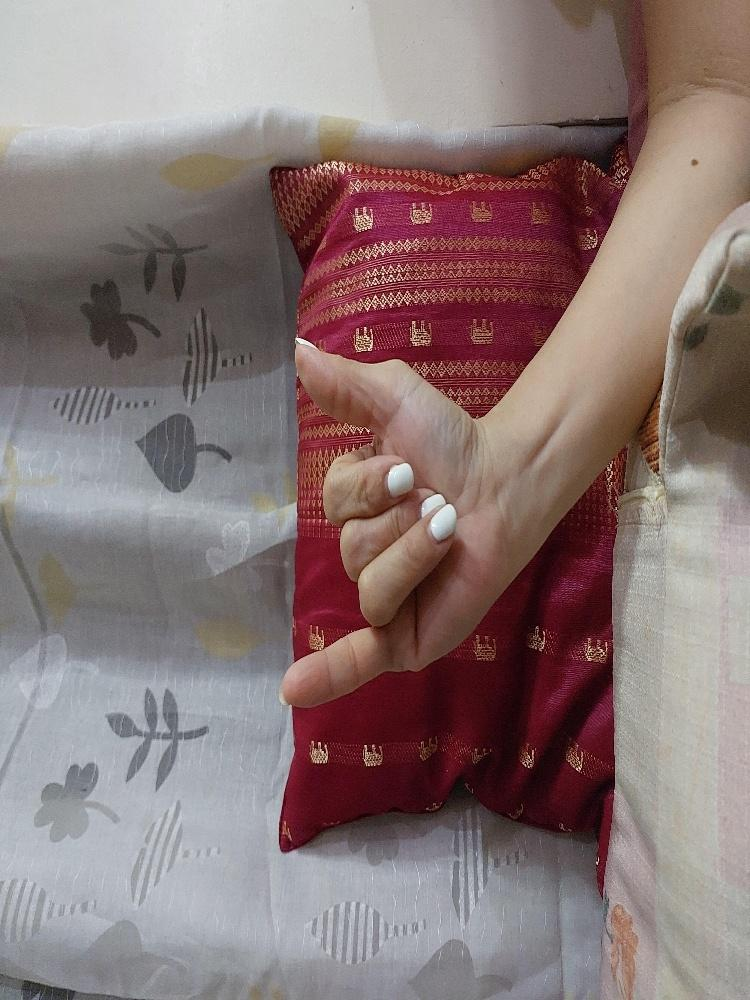y: (213, 369, 501, 663)
